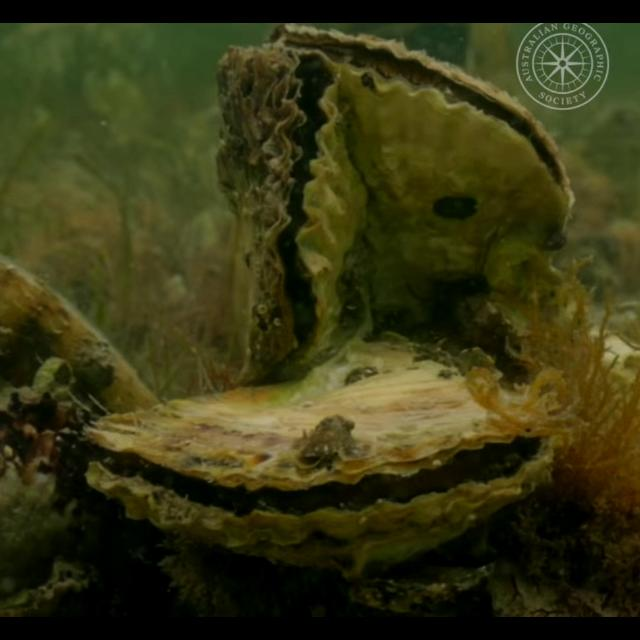Oyster-Closed: (0, 254, 162, 427)
Oyster-Open: (84, 333, 558, 583), (270, 24, 574, 352), (216, 44, 370, 390)
